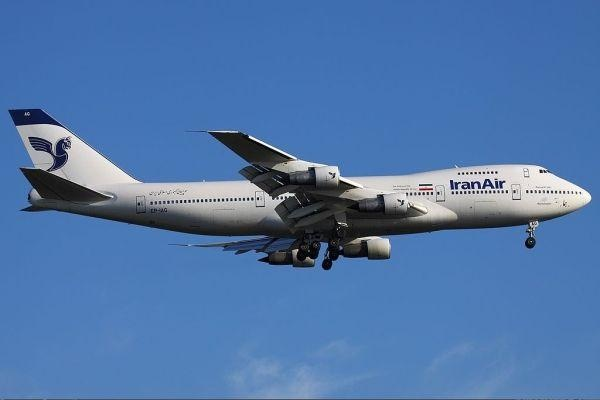airplane: (7, 105, 589, 263)
